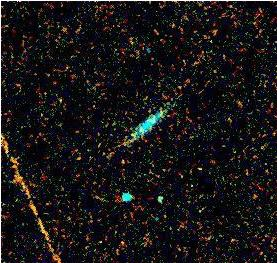star: (112, 147, 142, 177)
